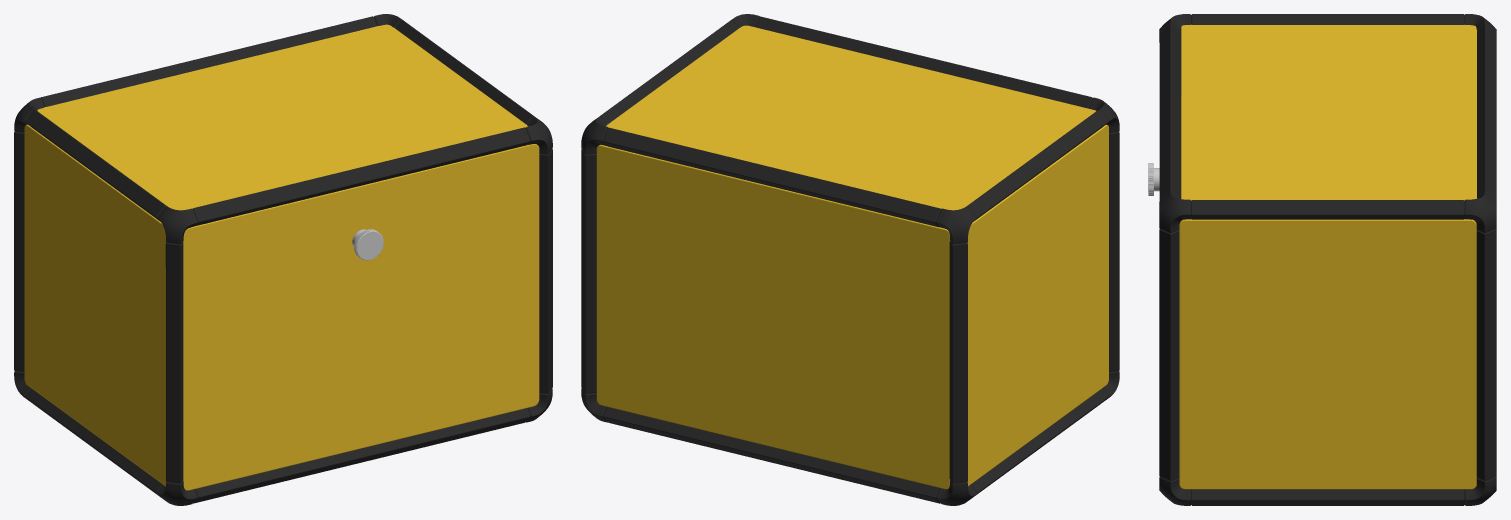
The picture shows the model from 3 angles, left to right: view 1: azimuth 30°, elevation 25°; view 2: azimuth 150°, elevation 25°; view 3: azimuth 270°, elevation 25°; orthographic projection. The views are drawn at different scales.
Visible parts, largest first — view 1: 479x329x329; view 2: 479x329x329; view 3: 479x329x329.
Boxes of the visible parts, x1,y1,x2,y2 form: 479x329x329: [14, 14, 552, 505]; 479x329x329: [581, 14, 1119, 505]; 479x329x329: [1148, 14, 1496, 505].
Size of the model in its own units: 0.5567 by 0.4066 by 0.4196.
